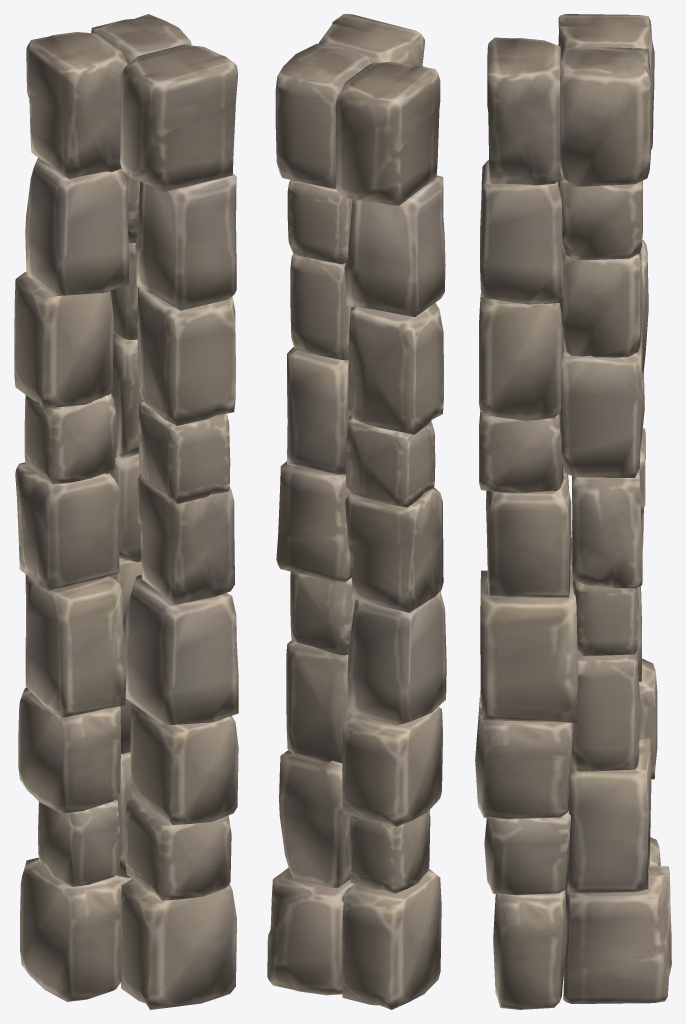
File: wall-qm-cornerexteriorbrick.glb
3 renders of one model, left to right at view 1: azimuth 30°, elevation 25°; view 2: azimuth 150°, elevation 25°; view 3: azimuth 270°, elevation 25°, orthographic. The views are drawn at different scales.
Visible parts, largest first — view 1: Cube_017_Retopology_059; view 2: Cube_017_Retopology_059; view 3: Cube_017_Retopology_059.
Part boxes in pixels (x1,y1,x2,y2): Cube_017_Retopology_059: [14, 14, 238, 1009]; Cube_017_Retopology_059: [267, 14, 446, 1009]; Cube_017_Retopology_059: [475, 14, 671, 1009].
Size of the model in its own units: 0.5307 by 3.02 by 0.5758.
1 material, 1 textured.
